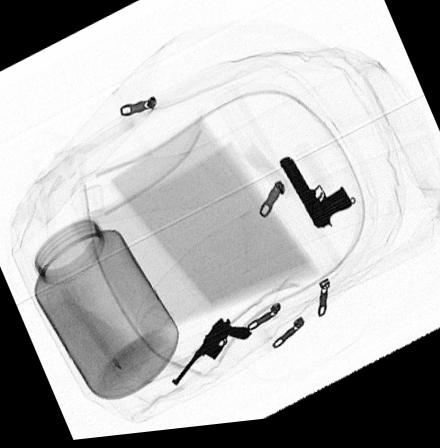Gun: (278, 159, 353, 238), (170, 320, 250, 391)
